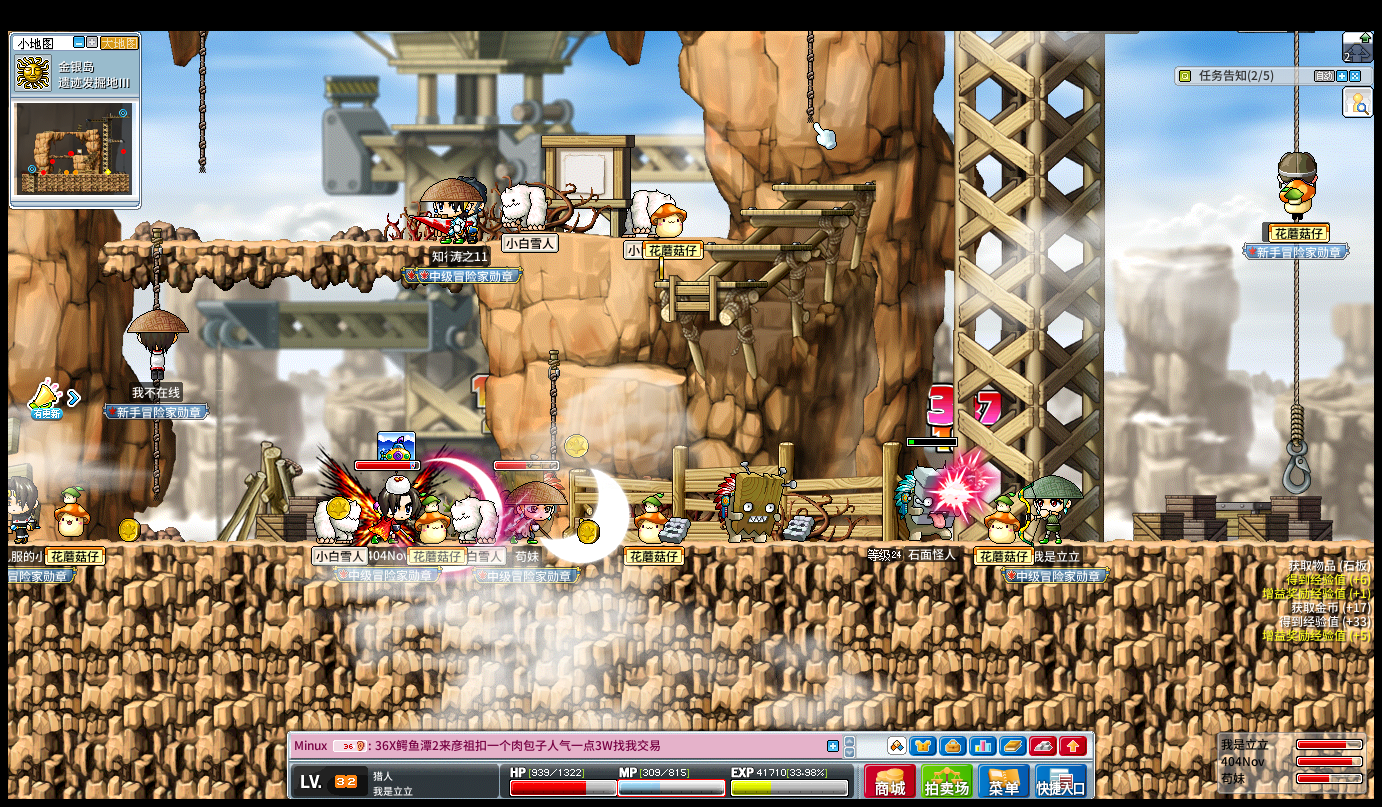floor: (101, 239, 473, 249), (577, 364, 686, 385), (651, 279, 766, 291), (603, 232, 739, 241), (738, 205, 852, 215), (651, 279, 766, 288), (736, 207, 849, 215), (699, 243, 810, 251), (771, 183, 875, 191)
monster: (714, 460, 791, 544), (893, 466, 942, 540)
rope: (544, 350, 558, 472), (546, 349, 561, 462), (1291, 257, 1302, 407), (198, 29, 207, 174), (152, 419, 164, 508), (150, 227, 162, 308), (804, 29, 814, 123), (1292, 29, 1299, 148), (151, 419, 160, 503), (1289, 399, 1304, 444)
